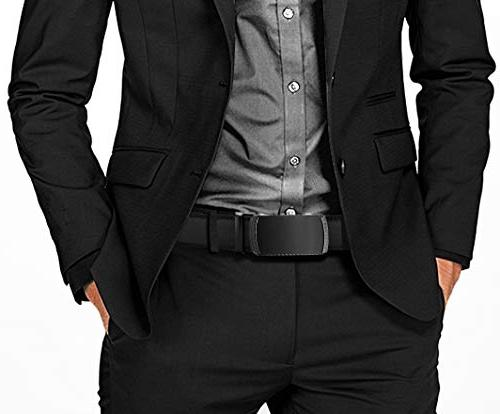F_M_suit jacket: (25, 1, 498, 333)
F_belt: (173, 208, 347, 263)
